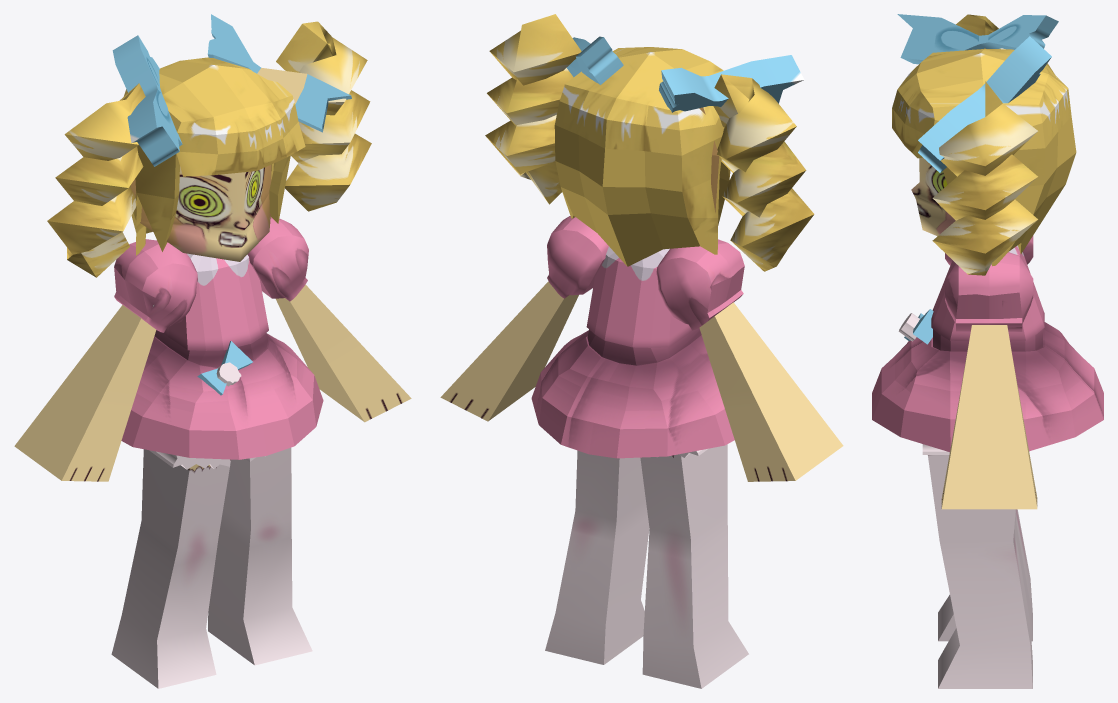
Rendered from Personaje.fbx.
The picture shows the model from 3 angles, left to right: view 1: azimuth 30°, elevation 25°; view 2: azimuth 150°, elevation 25°; view 3: azimuth 270°, elevation 25°; orthographic projection.
Visible parts, largest first — view 1: Vstido, piernaR, plo, piernaL, BrazoL1, coleta, coleta1, cara, BrazoL, hombroR, moño1, moño2 (+3 smaller); view 2: plo, Vstido, piernaR, piernaL, BrazoL1, coleta, coleta1, BrazoL, hombroR, moño1, hombroL, moño2; view 3: Vstido, piernaL, plo, BrazoL, coleta1, hombroL, moño2, moño1, cara, piernaR, coleta, moño.
Part boxes in pixels (x1=…): Vstido: x1=121, y1=253, x2=323, y2=459; piernaR: x1=111, y1=449, x2=230, y2=688; plo: x1=124, y1=57, x2=305, y2=255; piernaL: x1=208, y1=447, x2=312, y2=665; BrazoL1: x1=14, y1=305, x2=156, y2=481; coleta: x1=47, y1=83, x2=145, y2=277; coleta1: x1=276, y1=21, x2=371, y2=211; cara: x1=130, y1=165, x2=271, y2=261; BrazoL: x1=276, y1=284, x2=411, y2=422; hombroR: x1=114, y1=239, x2=197, y2=332; moño1: x1=112, y1=35, x2=182, y2=166; moño2: x1=207, y1=14, x2=351, y2=132; plo: x1=554, y1=47, x2=730, y2=266; Vstido: x1=531, y1=246, x2=734, y2=458; piernaR: x1=640, y1=444, x2=748, y2=688; piernaL: x1=545, y1=450, x2=649, y2=664; BrazoL1: x1=699, y1=302, x2=843, y2=481; coleta: x1=713, y1=74, x2=814, y2=271; coleta1: x1=485, y1=14, x2=581, y2=204; BrazoL: x1=440, y1=281, x2=578, y2=421; hombroR: x1=656, y1=239, x2=744, y2=330; moño1: x1=659, y1=55, x2=804, y2=112; hombroL: x1=547, y1=216, x2=608, y2=298; moño2: x1=566, y1=36, x2=623, y2=84; Vstido: x1=872, y1=245, x2=1103, y2=452; piernaL: x1=928, y1=455, x2=1032, y2=688; plo: x1=892, y1=49, x2=1076, y2=266; BrazoL: x1=941, y1=325, x2=1037, y2=509; coleta1: x1=932, y1=81, x2=1037, y2=275; hombroL: x1=945, y1=252, x2=1033, y2=331; moño2: x1=918, y1=36, x2=1051, y2=172; moño1: x1=897, y1=14, x2=1058, y2=64; cara: x1=911, y1=48, x2=1003, y2=236; piernaR: x1=938, y1=509, x2=1032, y2=641; coleta: x1=956, y1=14, x2=1005, y2=49; moño: x1=904, y1=309, x2=933, y2=344.
Size of the model in its own units: 65.07 by 110 by 36.87.
Materials: 2 (1 with a texture image).
